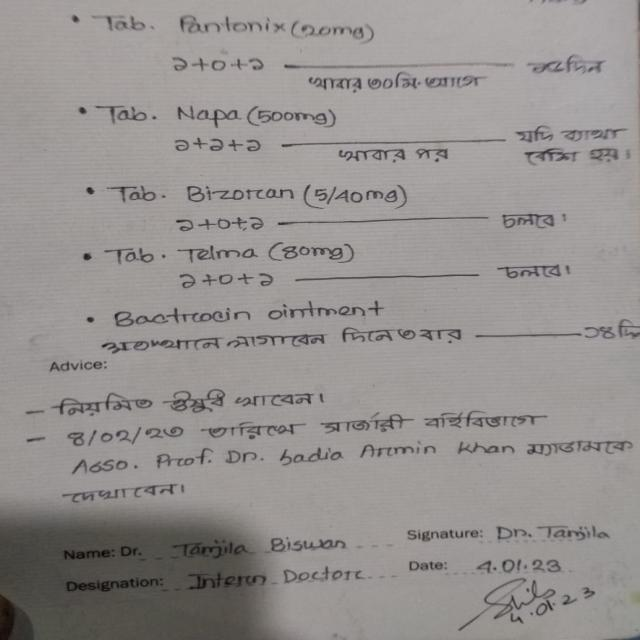Bactrocin: (116, 304, 261, 335)
Bizoran: (177, 179, 303, 213)
Napa: (176, 95, 246, 130)
Pantonix: (169, 12, 294, 47)
Telma: (182, 240, 268, 267)
